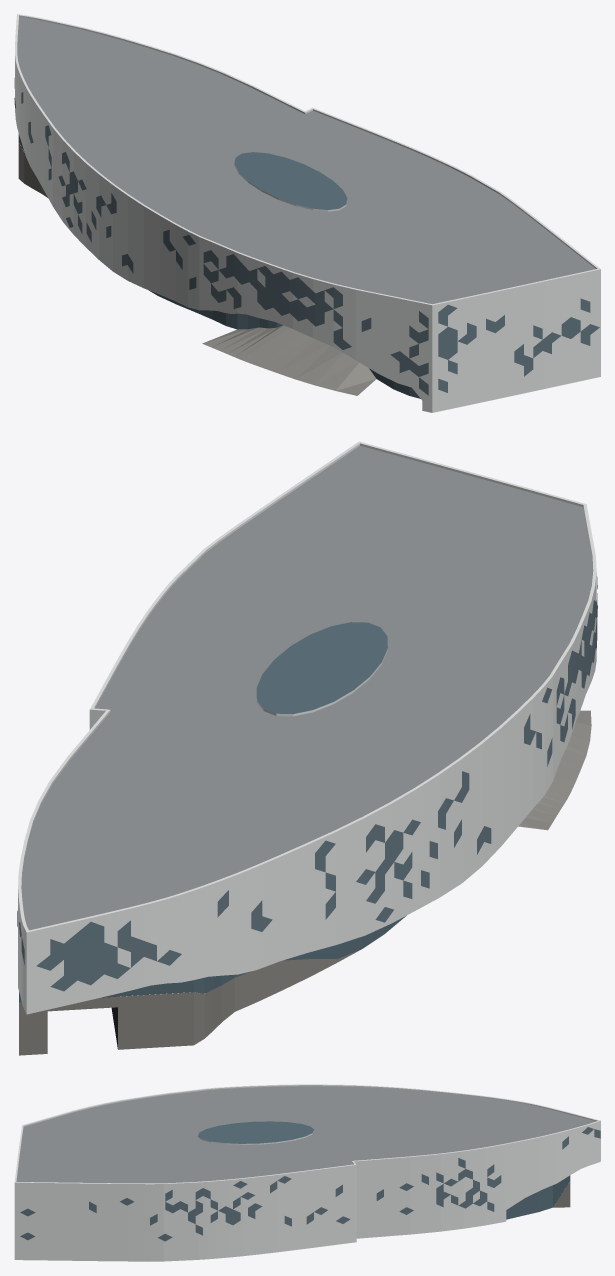
File: calgary-central-library-far.glb
3 renders of one model, top to bottom at view 1: azimuth 30°, elevation 25°; view 2: azimuth 150°, elevation 25°; view 3: azimuth 270°, elevation 25°, orthographic. The views are drawn at different scales.
Visible parts, largest first — view 1: calgary-central-library-0-roof, calgary-central-library-0-panel, calgary-central-library-0-glass, calgary-central-library-0-stone, calgary-central-library-0-glow; view 2: calgary-central-library-0-roof, calgary-central-library-0-panel, calgary-central-library-0-stone, calgary-central-library-0-glass, calgary-central-library-0-glow; view 3: calgary-central-library-0-panel, calgary-central-library-0-roof, calgary-central-library-0-glass, calgary-central-library-0-glow, calgary-central-library-0-stone.
Boxes of the visible parts, <box> form: calgary-central-library-0-roof: <box>17,17,595,304</box>; calgary-central-library-0-panel: <box>15,14,600,412</box>; calgary-central-library-0-glass: <box>14,78,599,395</box>; calgary-central-library-0-stone: <box>18,142,376,395</box>; calgary-central-library-0-glow: <box>18,134,420,398</box>; calgary-central-library-0-roof: <box>21,445,593,930</box>; calgary-central-library-0-panel: <box>18,441,596,1014</box>; calgary-central-library-0-stone: <box>19,710,591,1055</box>; calgary-central-library-0-glass: <box>17,577,597,991</box>; calgary-central-library-0-glow: <box>19,622,406,1002</box>; calgary-central-library-0-panel: <box>14,1084,600,1261</box>; calgary-central-library-0-roof: <box>16,1086,595,1183</box>; calgary-central-library-0-glass: <box>20,1127,600,1241</box>; calgary-central-library-0-glow: <box>198,1121,570,1219</box>; calgary-central-library-0-stone: <box>553,1181,570,1207</box>.
Size of the model in its own units: 56.7 by 20.4 by 140.
